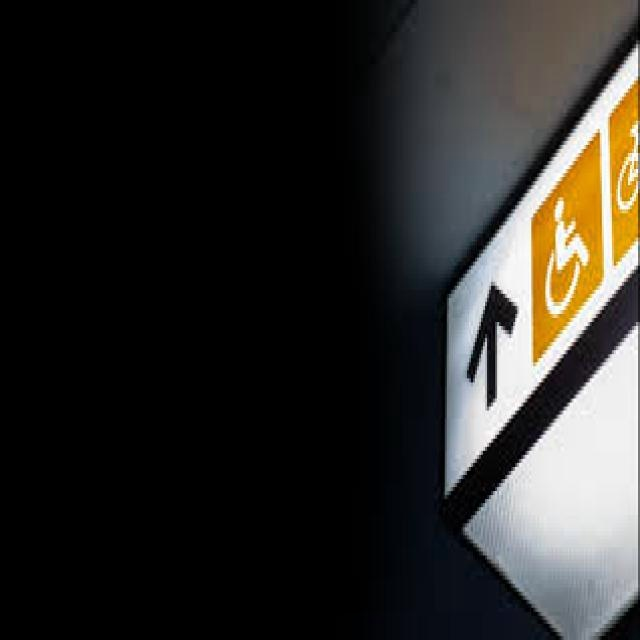ISA: (544, 194, 601, 316)
